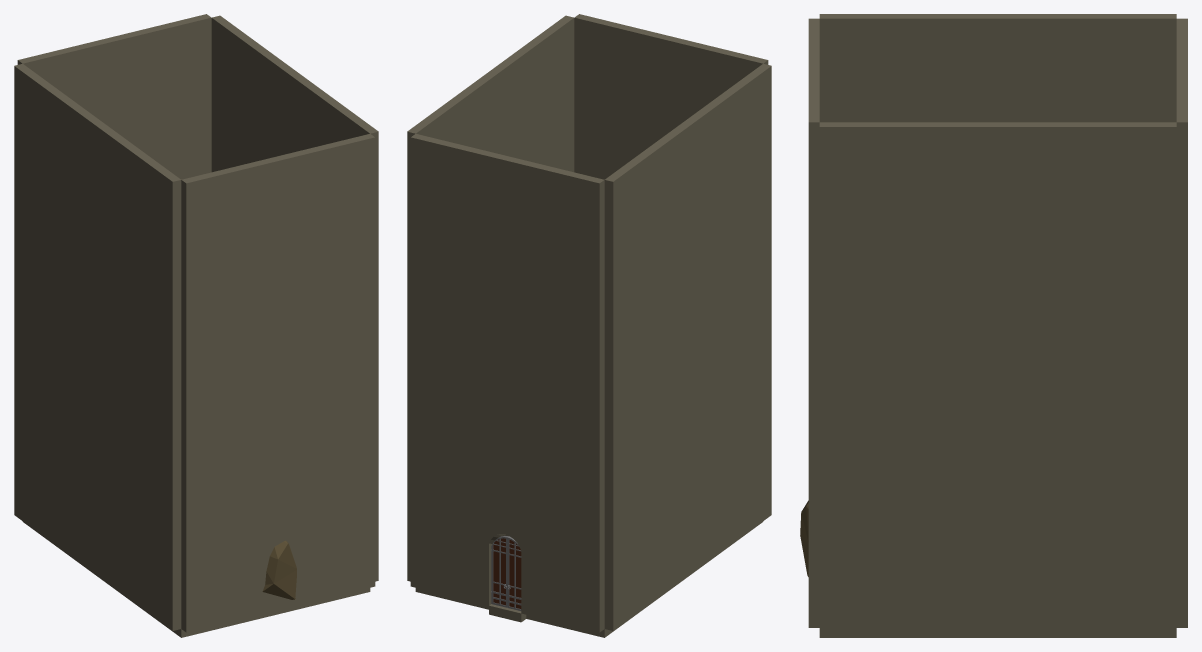
File: StartRoom.fbx
3 renders of one model, left to right at view 1: azimuth 30°, elevation 25°; view 2: azimuth 150°, elevation 25°; view 3: azimuth 270°, elevation 25°, orthographic. The views are drawn at different scales.
Visible parts, largest first — view 1: Walls, Room; view 2: Walls, Room, Door4, Door3; view 3: Walls, Room.
Part boxes in pixels (x1=…): Walls: x1=14, y1=14, x2=378, y2=542; Room: x1=14, y1=425, x2=378, y2=637; Walls: x1=407, y1=14, x2=771, y2=542; Room: x1=407, y1=425, x2=771, y2=637; Door4: x1=491, y1=536, x2=508, y2=607; Door3: x1=507, y1=536, x2=521, y2=610; Walls: x1=808, y1=14, x2=1187, y2=531; Room: x1=800, y1=500, x2=1187, y2=637.
Bounding box in the file's own units: 1200 × 2562 × 1738.
